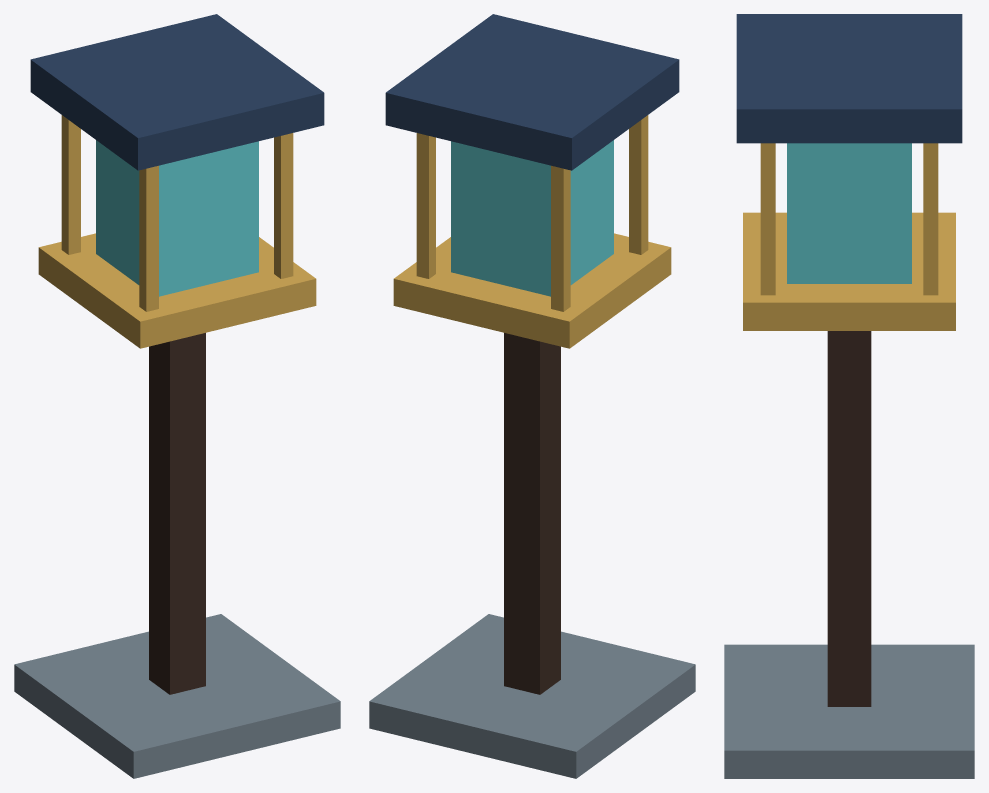
The model's file is crystal_lantern.glb.
3 views of the same model, side by side, from view 1: azimuth 30°, elevation 25°; view 2: azimuth 150°, elevation 25°; view 3: azimuth 270°, elevation 25° (orthographic). The views are drawn at different scales.
Visible parts, largest first — view 1: crystal_lantern; view 2: crystal_lantern; view 3: crystal_lantern.
Boxes of the visible parts, x1,y1,x2,y2 form: crystal_lantern: (14, 14, 340, 778); crystal_lantern: (369, 14, 695, 778); crystal_lantern: (724, 14, 974, 778).
Size of the model in its own units: 2 by 5.85 by 2.
